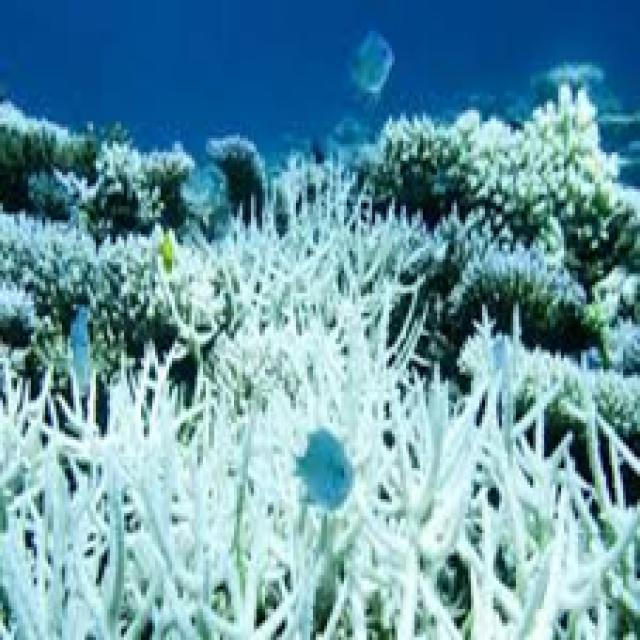Bleached: (1, 390, 638, 640), (211, 217, 413, 411), (379, 117, 633, 235), (459, 333, 640, 428), (1, 212, 156, 296), (467, 91, 610, 172), (273, 152, 368, 251), (456, 252, 587, 322), (144, 274, 247, 329), (96, 145, 202, 186), (1, 283, 45, 339)
